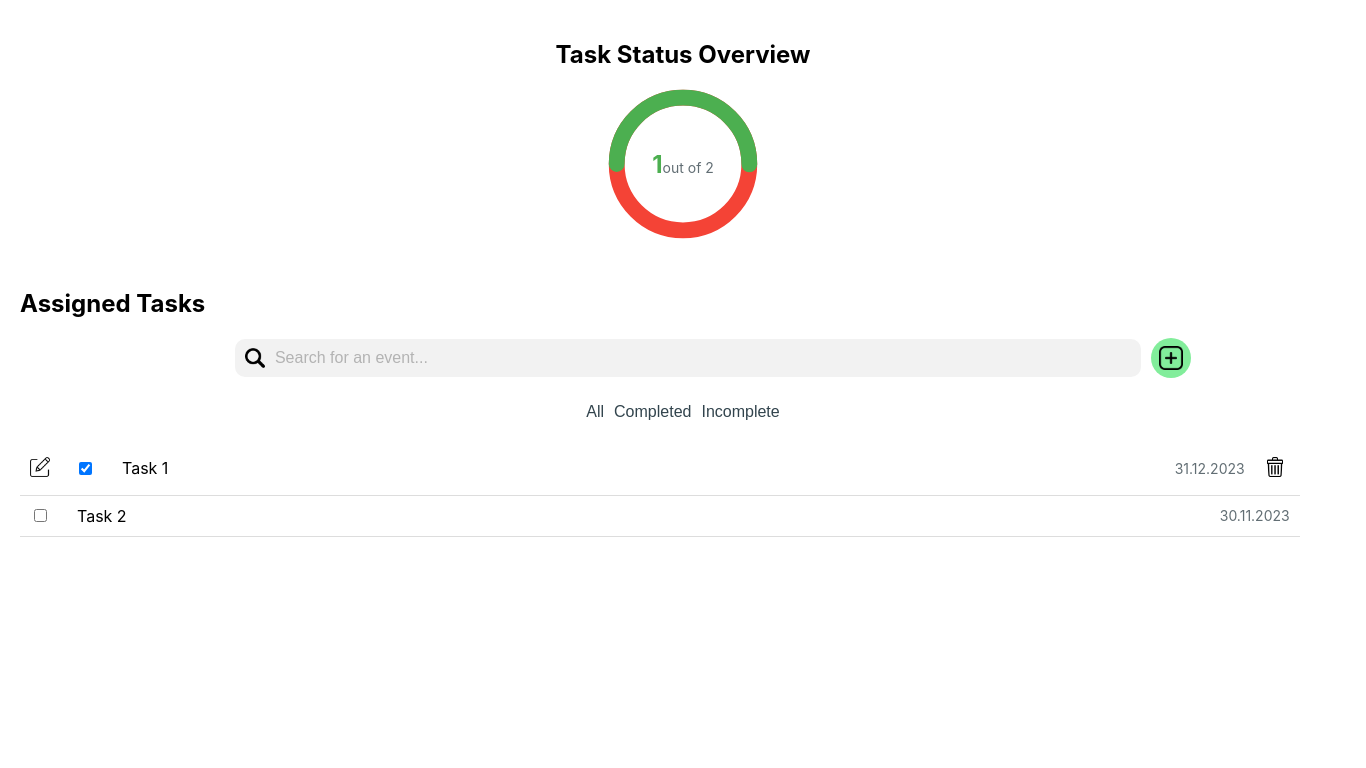
Test case: EmployeeTasks Component › opens modal when add task button is clicked
This screenshot has width=1366, height=768.
Click the 1st button with alt text "Add": (1171, 358) [1151, 338, 1191, 378]
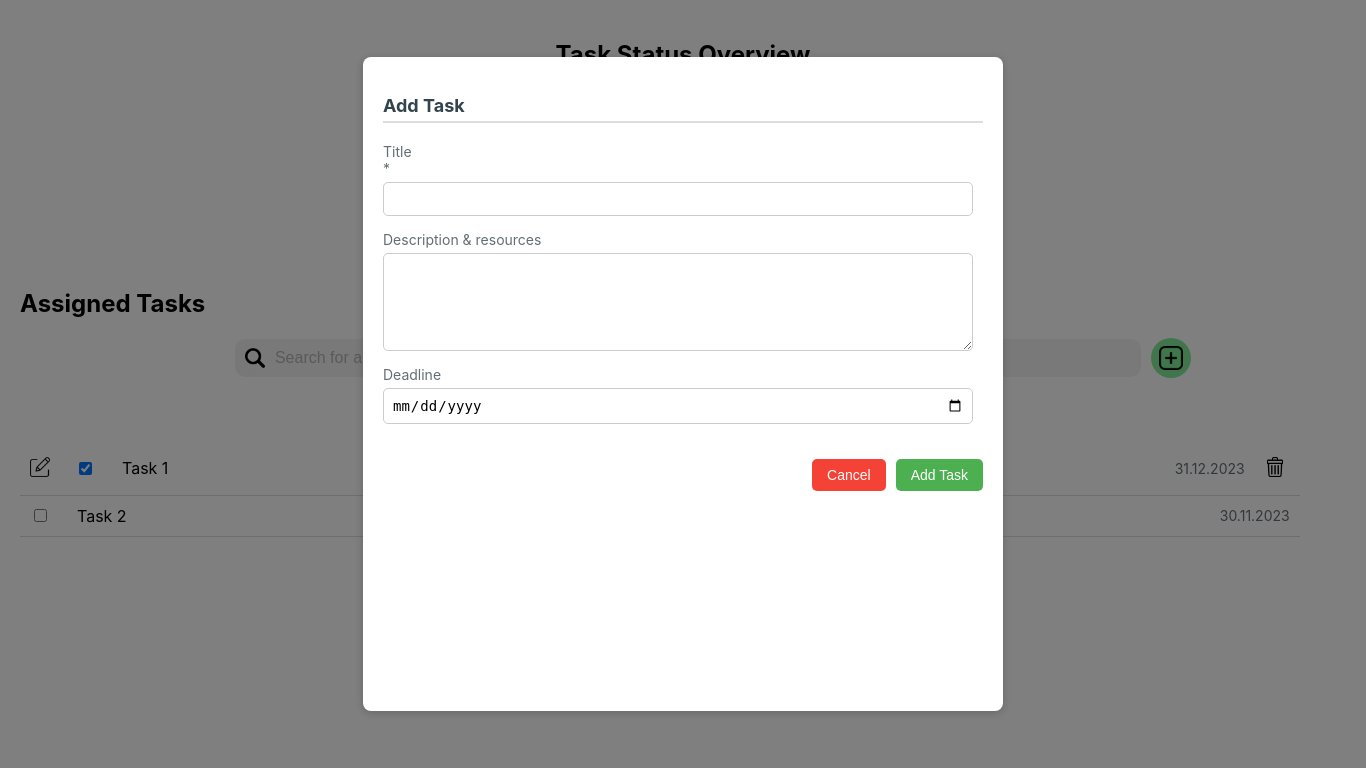
Result: the number of headings "Add Task" is 2 at [383, 95, 983, 123]; [896, 459, 983, 491]
Result: the heading "Add Task" is shown at [383, 95, 983, 123]
